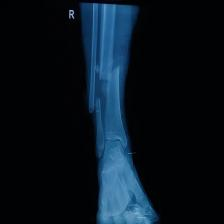open-compound-fracture: (79, 0, 162, 224)
